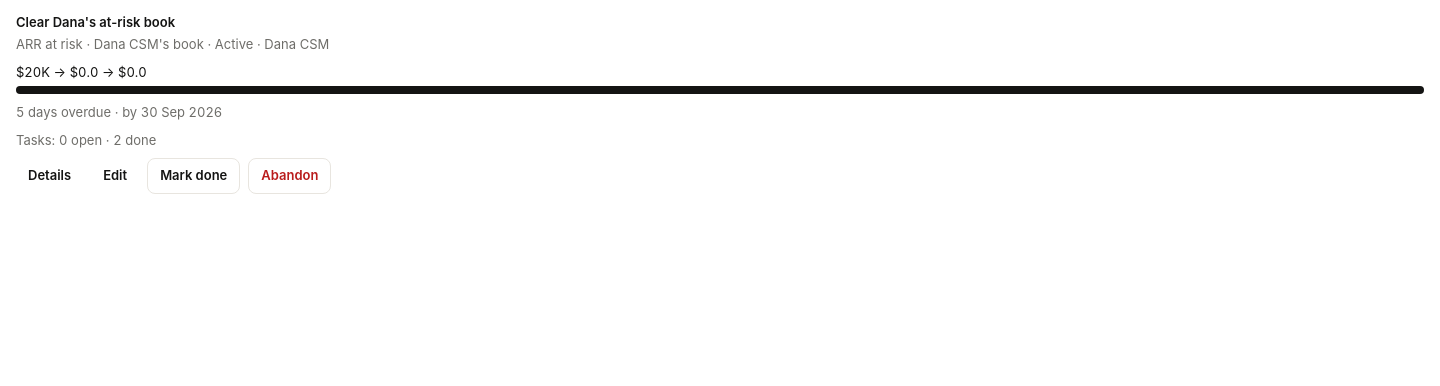
Test: InitiativeRow (spec §2.1) › shows the server’s refusal at the buttons, focused, and keeps the row (§1.3)
Click the button "Mark done" at (194, 176), box [147,158,240,194]
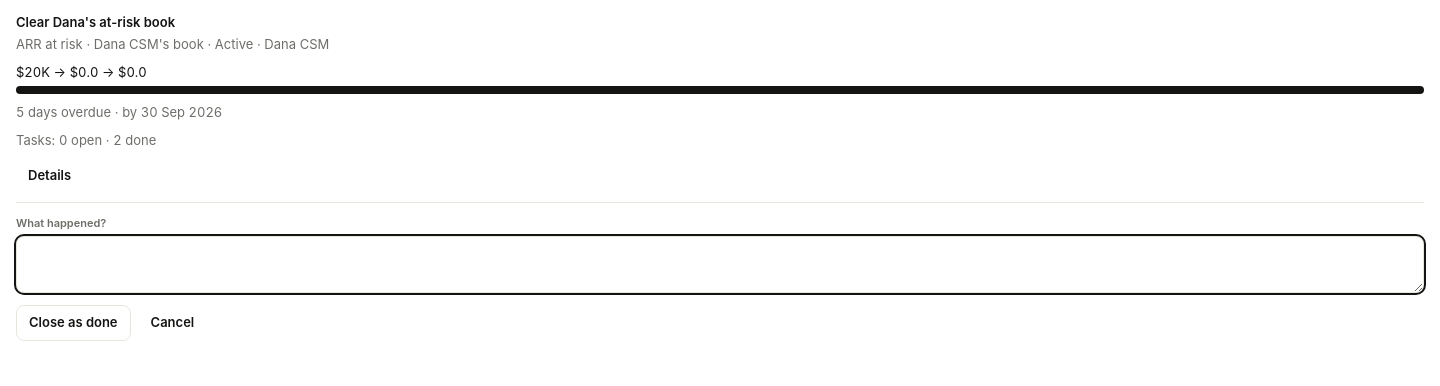
Click the button "Close as done" at (73, 322), box [16,304,131,340]
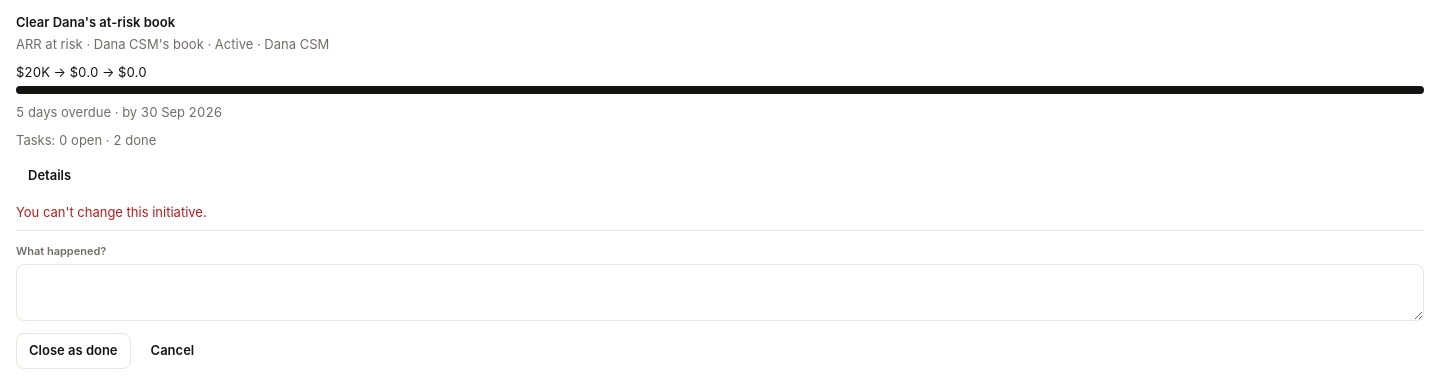
expect the message reads "You can't change this initiative.": met, box [16,204,207,220]
